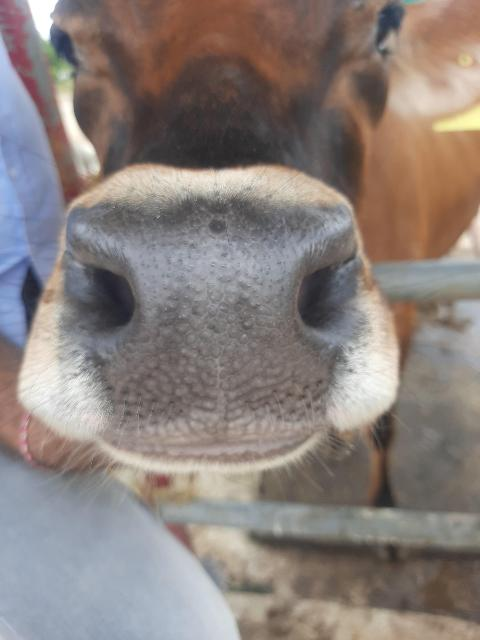Muzzle: (94, 204, 326, 424)
